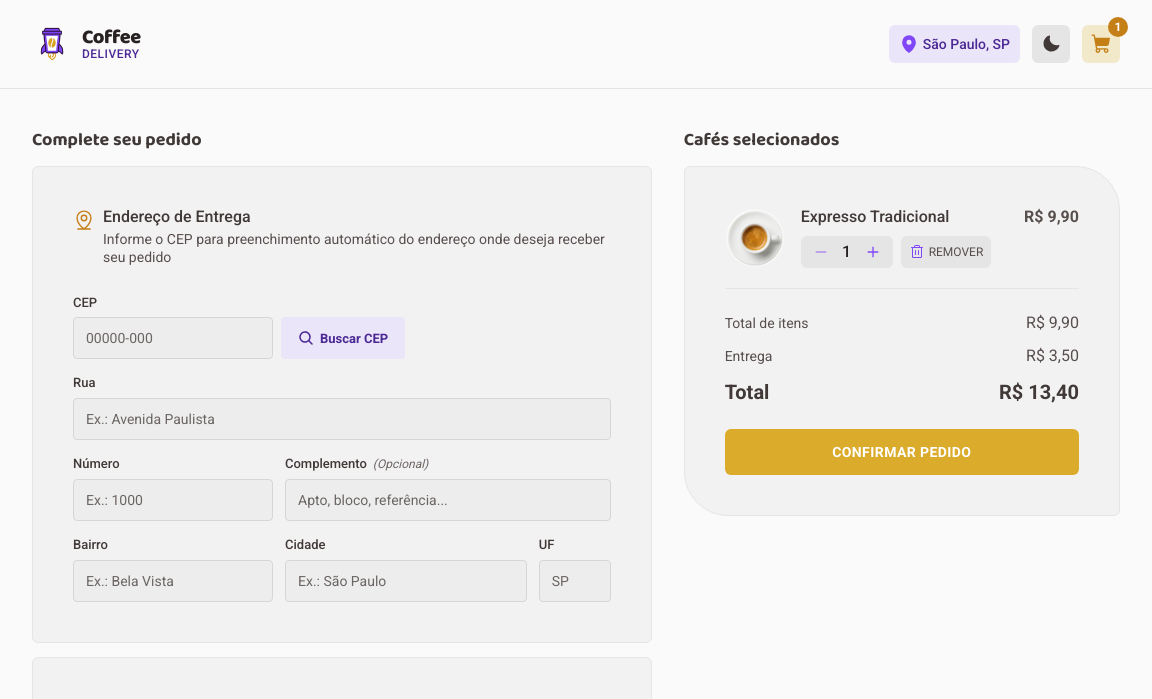
Scenario: Fluxos completos da SPA Coffee Delivery › trata CEP não encontrado na API ViaCEP mantendo edição manual do endereço (RF-08 e RN-07)
Later steps or results of the test are not shown.
Type "99999999" into the field labelled "CEP". click: coordinates (173, 338)
box: x1=73 y1=318 x2=273 y2=360
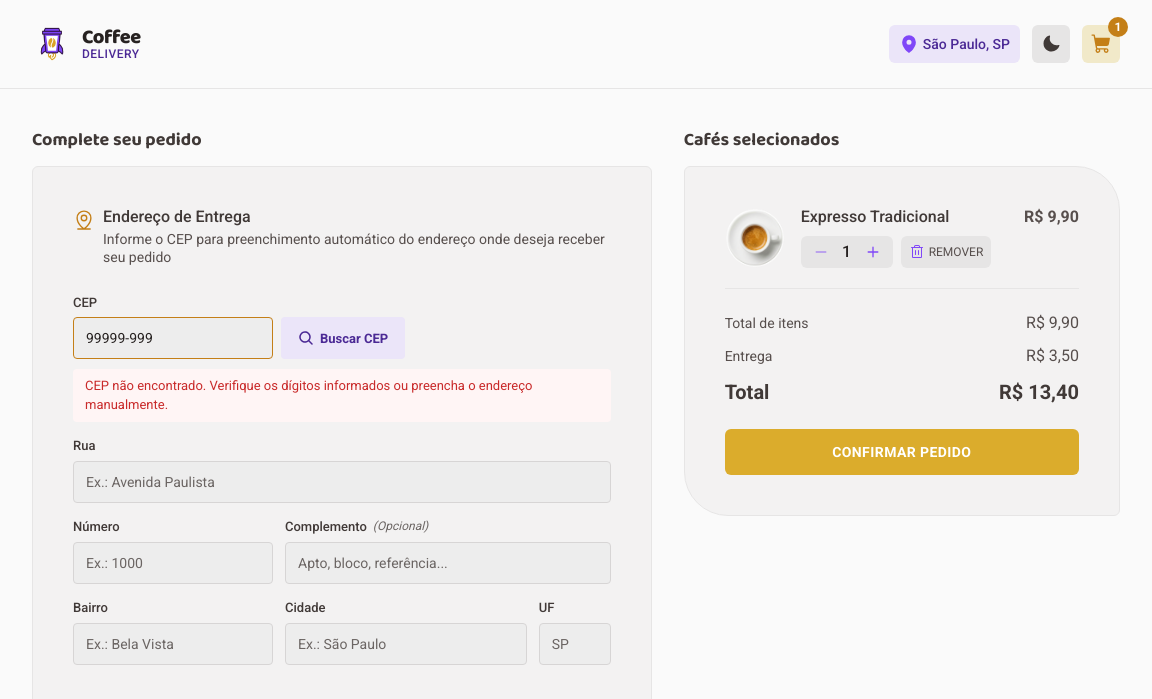
expect the text "CEP não encontrado" is shown: met, box x1=85 y1=378 x2=532 y2=412
